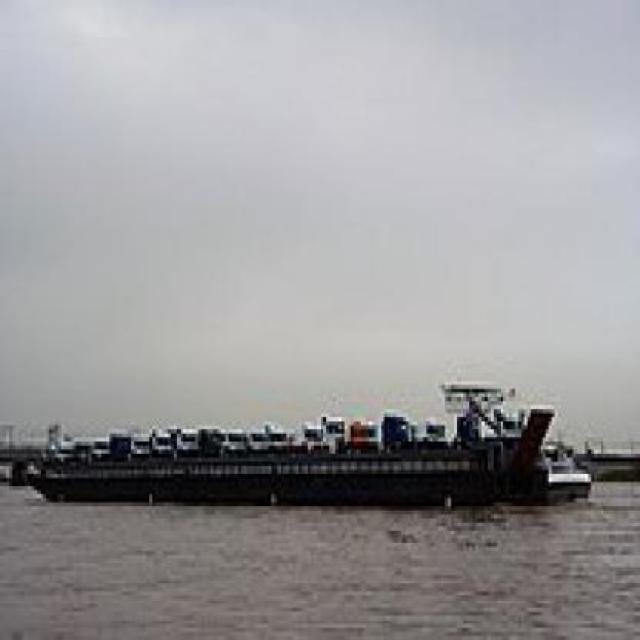container: (13, 374, 599, 520)
